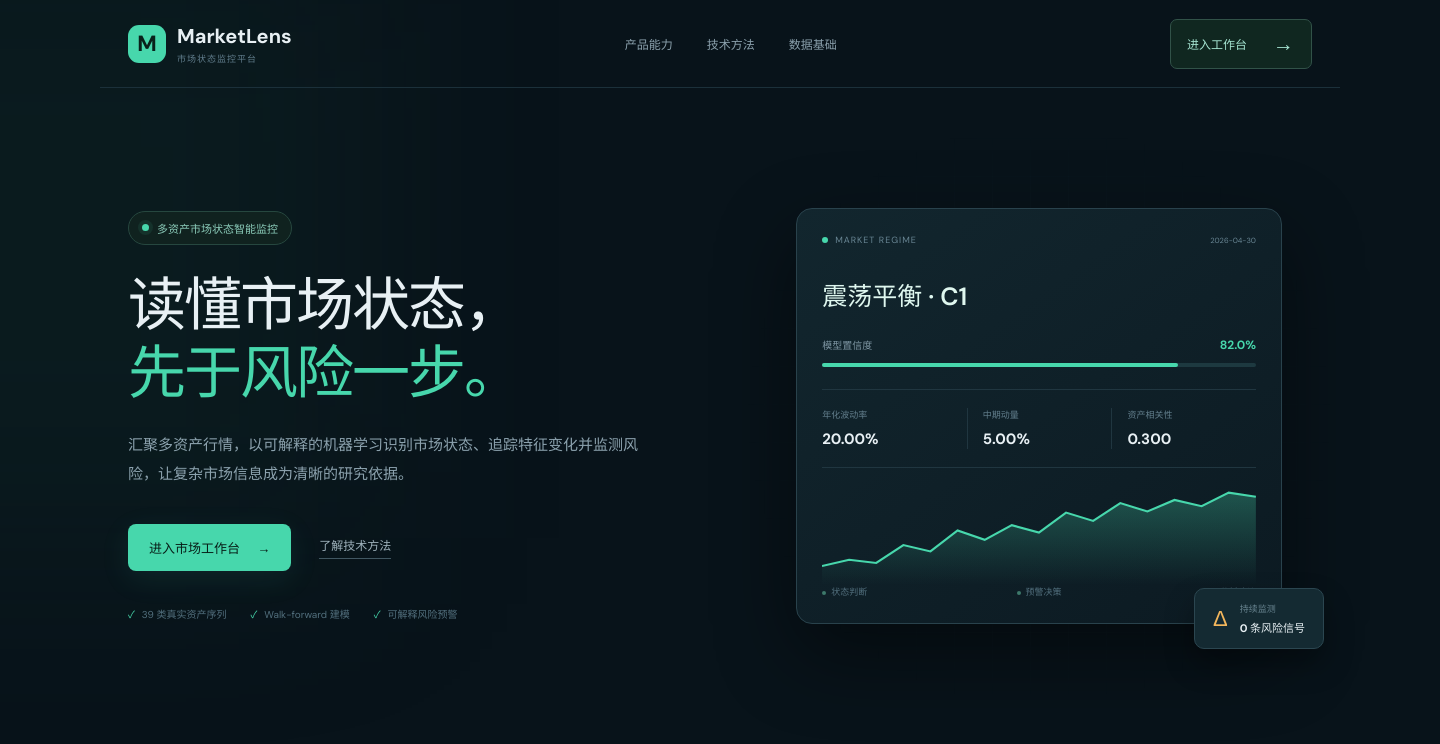
Test: App › loads data pages without repeating market requests and renders safe readable content
expect the text "震荡平衡 · C1" is shown: met, box [822,280,967,313]
Click the button "进入市场工作台 →" at (210, 548), box [128,524,291,571]
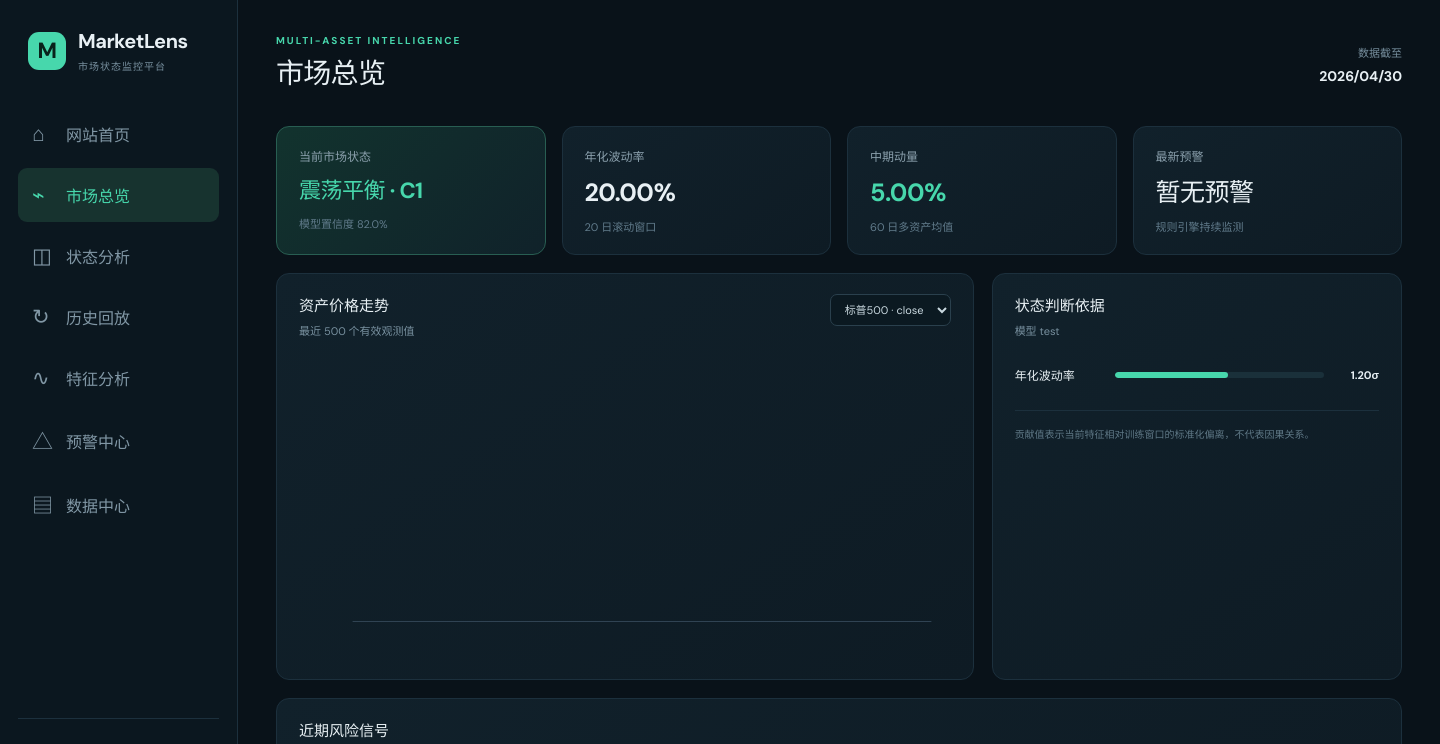
expect the heading "市场总览" is shown: met, box [276,55,385,92]
Click the button "▤ 数据中心" at (118, 504), box [18,476,219,533]
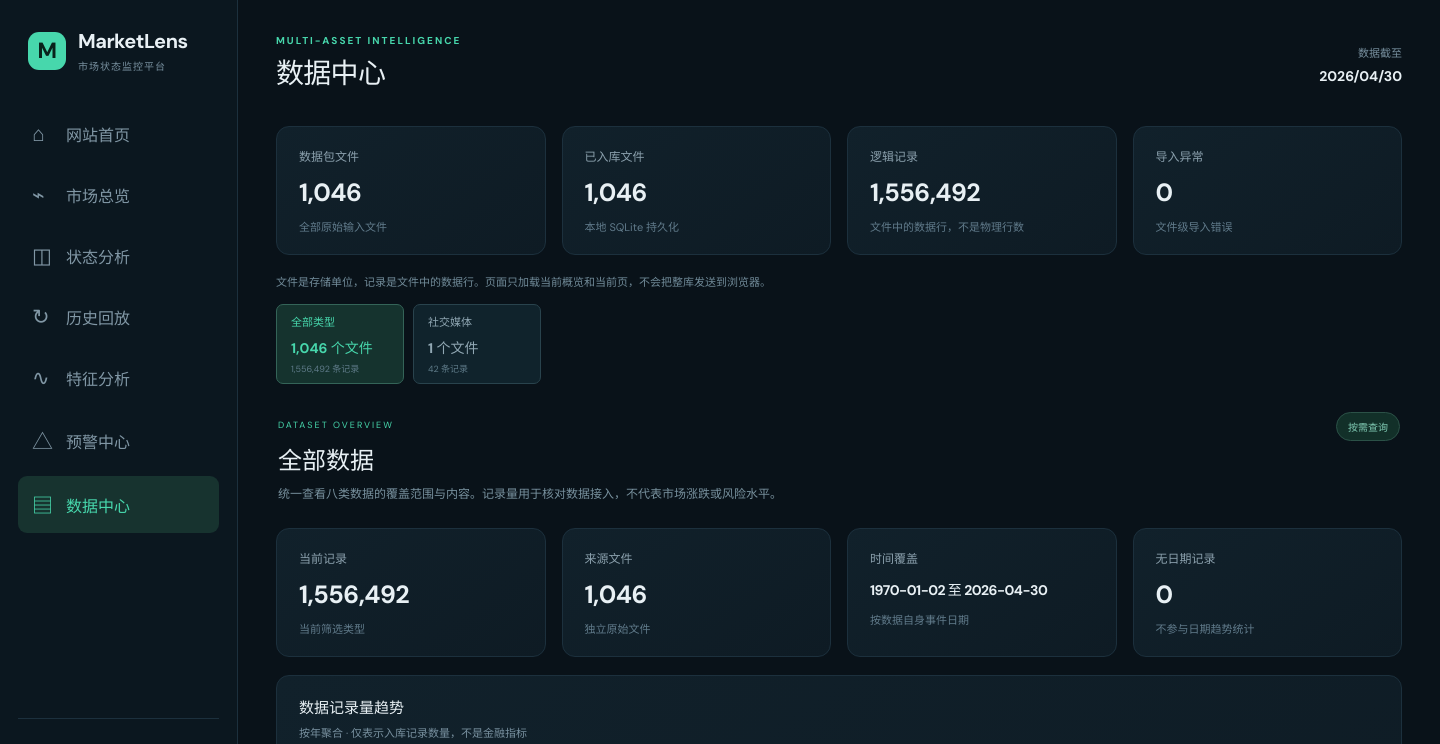
expect the heading "全部数据" is shown: met, box [278,445,374,476]
Click the button "社交媒体 1 个文件 42 条记录" at (477, 344), box [413,304,541,384]
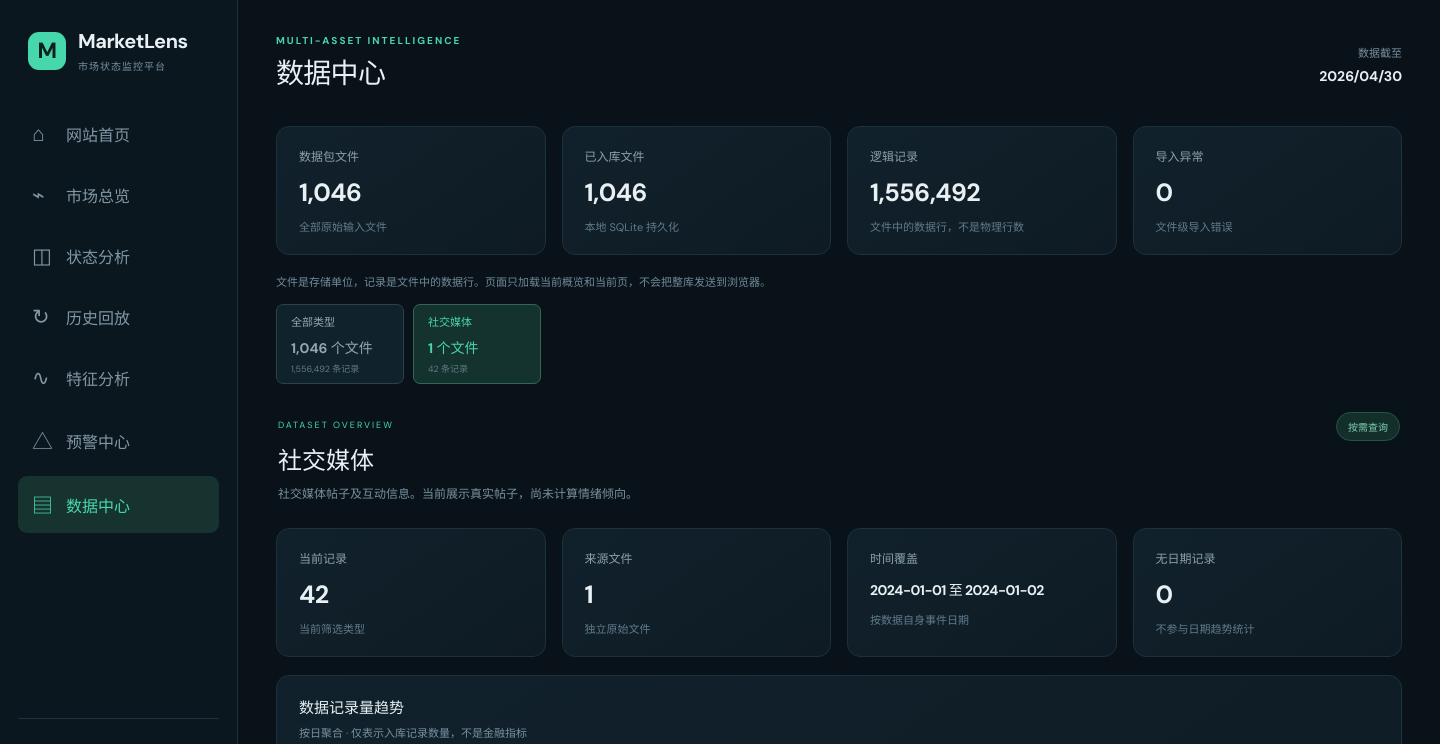
expect the text "1 个文件" is shown: met, box [428,339,478,357]
expect the text "42 条记录" is shown: met, box [428,363,468,375]
expect the heading "社交媒体" is shown: met, box [278,445,374,476]
